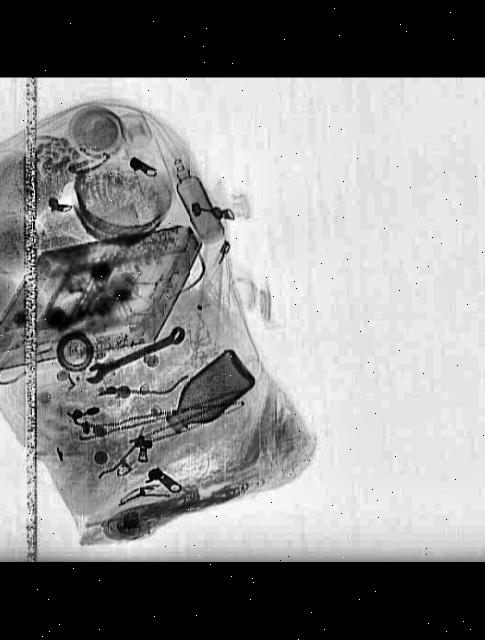Wrench: (75, 325, 189, 388)
